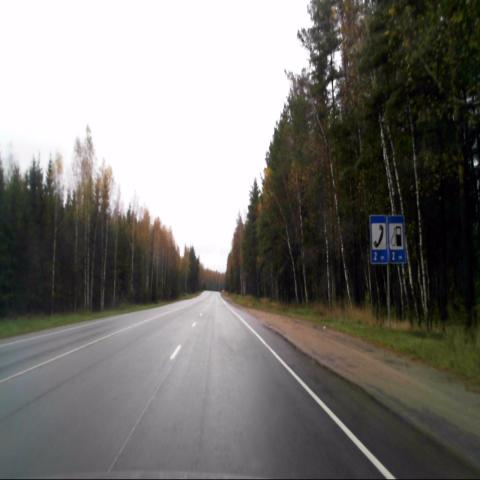7_6: (371, 214, 387, 264)
